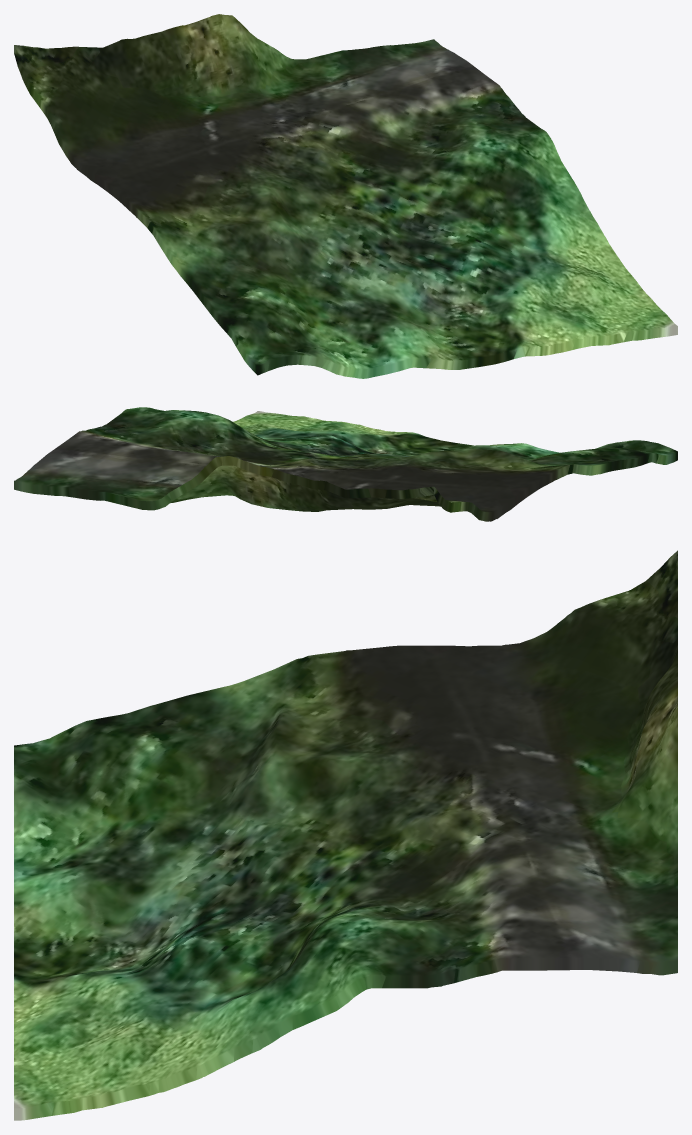
The model's file is z20-167565-405176-h0-yup-uvflip-v3-world.glb.
3 renders of one model, top to bottom at view 1: azimuth 30°, elevation 25°; view 2: azimuth 150°, elevation 25°; view 3: azimuth 270°, elevation 25°, orthographic. The views are drawn at different scales.
Size of the model in its own units: 30.16 by 14.68 by 30.32.
1 material, 1 textured.
